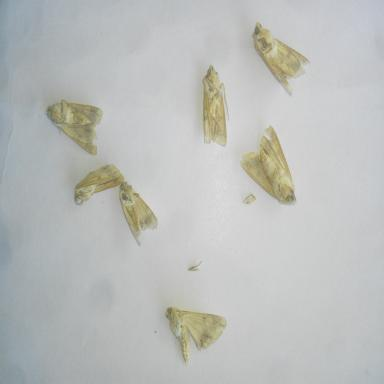abw: (237, 124, 299, 208), (250, 19, 312, 98), (164, 304, 229, 368), (43, 94, 105, 158), (117, 174, 160, 248), (70, 159, 129, 211), (200, 60, 231, 150)
